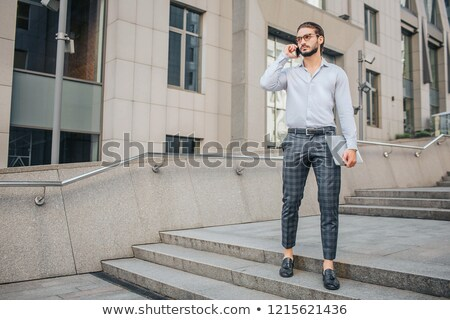phone: (292, 38, 303, 61)
talk: (283, 33, 317, 64)
